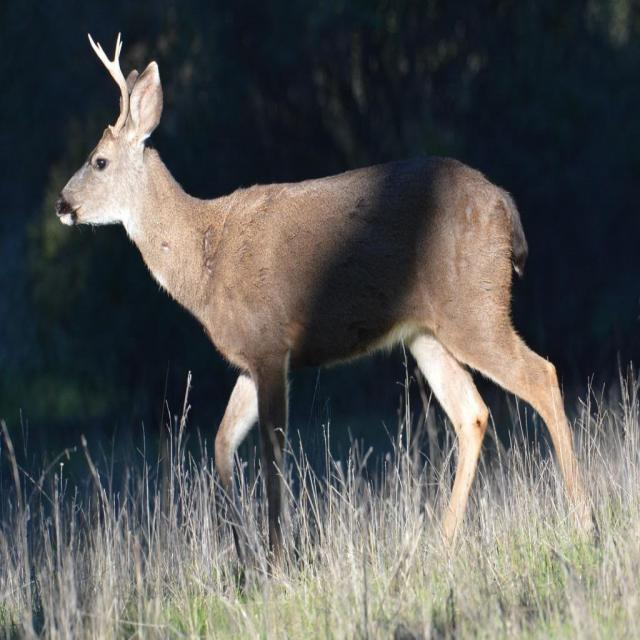Deer: (51, 28, 595, 565)
